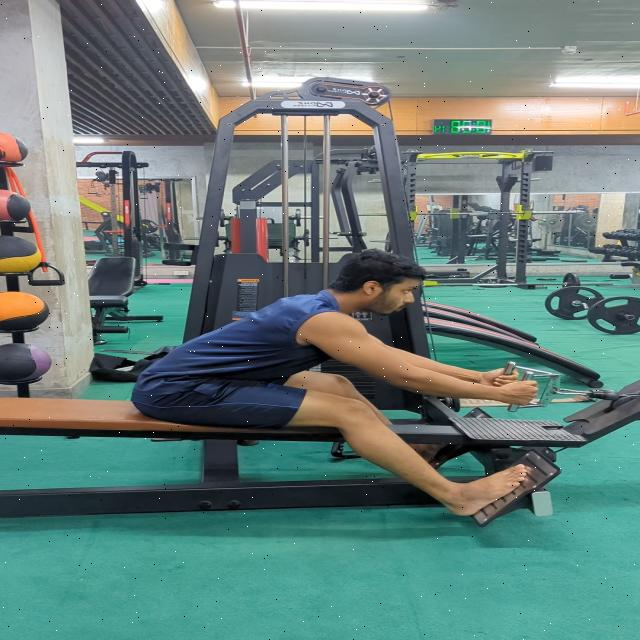Normal_RowingMachineExercise: (128, 244, 542, 521)
